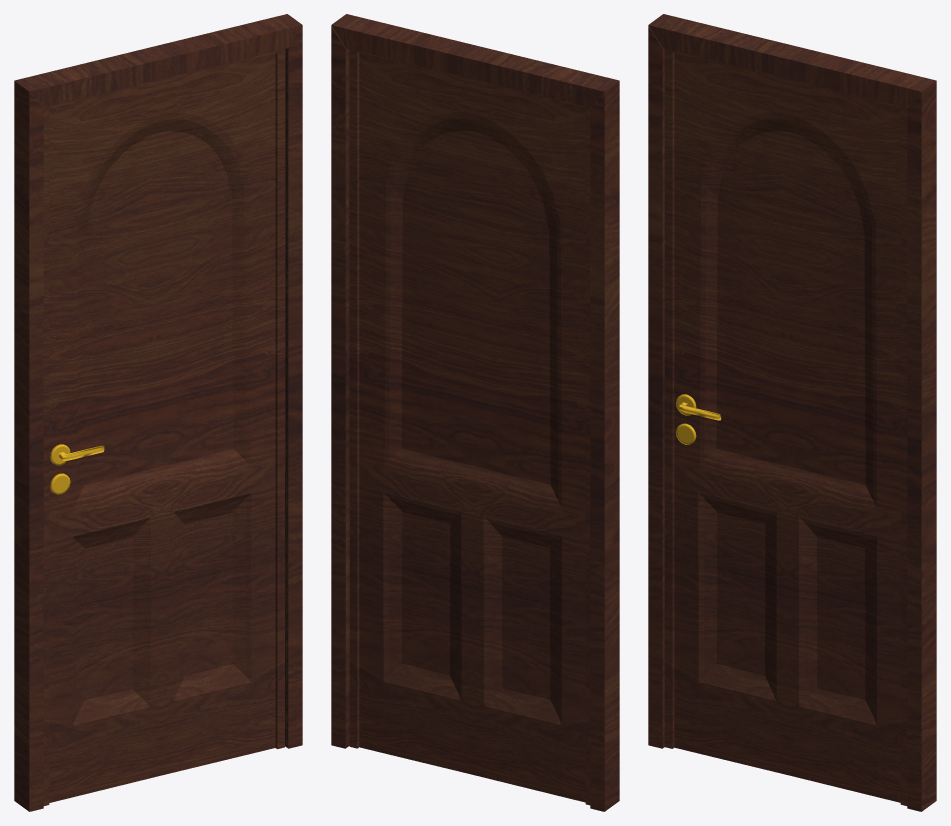
Rendered from PUERTA55_CANTERBURY.glb.
3 views of the same model, side by side, from view 1: azimuth 30°, elevation 25°; view 2: azimuth 150°, elevation 25°; view 3: azimuth 330°, elevation 25° (orthographic).
Visible parts, largest first — view 1: Puerta55_CANTERBURY, Puerta55_Marco, Puerta55_Cerradura; view 2: Puerta55_CANTERBURY, Puerta55_Marco; view 3: Puerta55_CANTERBURY, Puerta55_Marco, Puerta55_Cerradura.
Boxes of the visible parts, bbox=[...] form: Puerta55_CANTERBURY: bbox=[43, 49, 285, 805]; Puerta55_Marco: bbox=[14, 14, 302, 811]; Puerta55_Cerradura: bbox=[50, 444, 104, 494]; Puerta55_CANTERBURY: bbox=[349, 49, 590, 805]; Puerta55_Marco: bbox=[331, 14, 619, 811]; Puerta55_CANTERBURY: bbox=[664, 49, 907, 805]; Puerta55_Marco: bbox=[648, 14, 936, 811]; Puerta55_Cerradura: bbox=[675, 394, 721, 444].
Bounding box in the file's own units: 769 × 1936 × 85.
4 materials, 3 textured.
